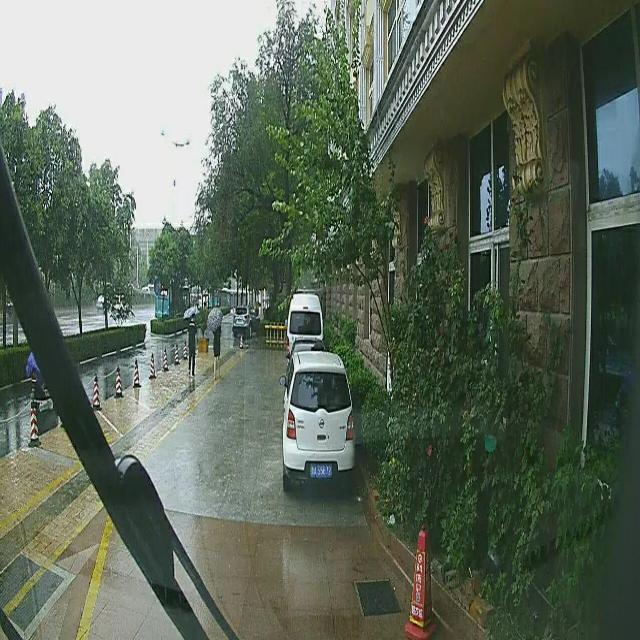car: (284, 349, 355, 484), (232, 302, 258, 334)
